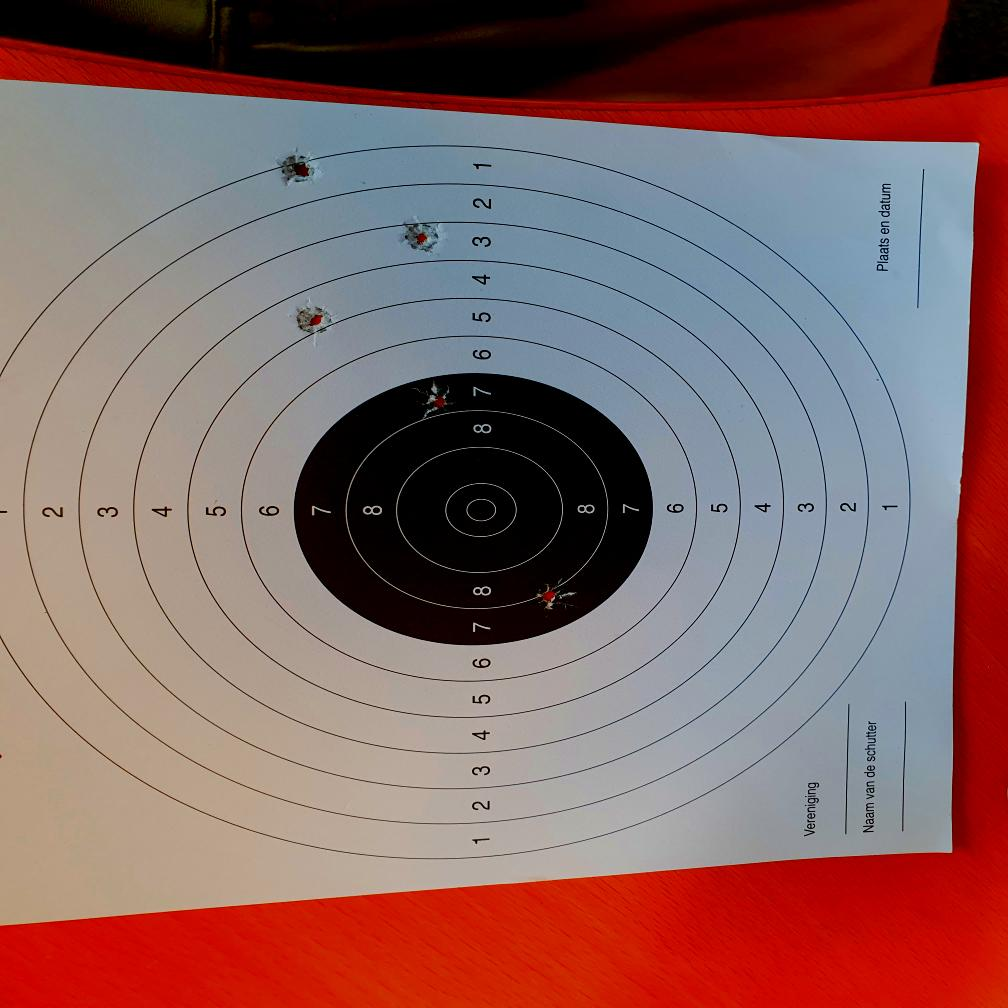1: (272, 151, 324, 185)
3: (397, 214, 442, 258)
5: (293, 304, 336, 336)
7: (409, 380, 459, 420)
8: (532, 580, 580, 614)
Target: (1, 146, 917, 864)
black_contour: (293, 373, 652, 646)
